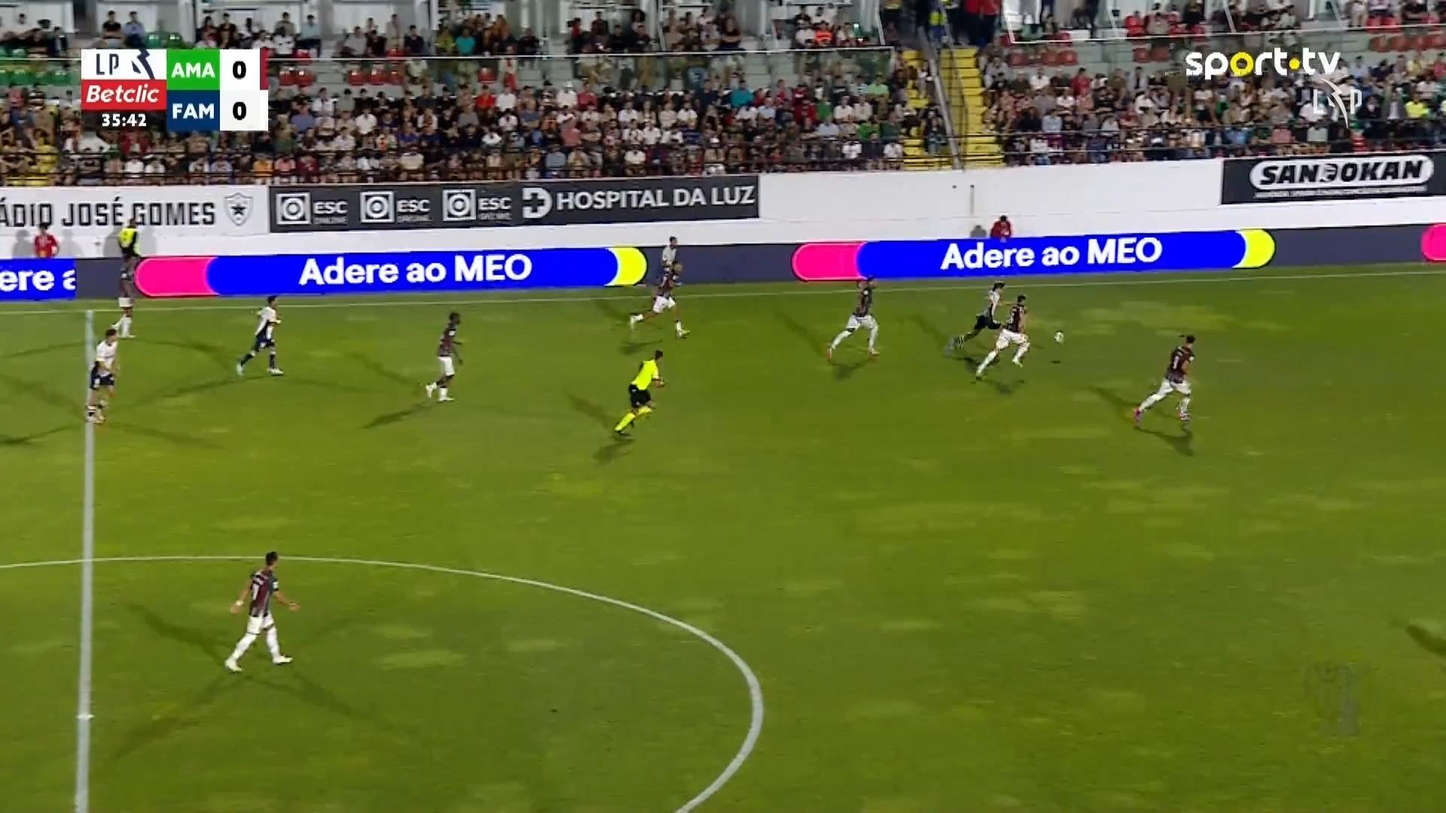ball: (1054, 330, 1063, 343)
player: (223, 550, 300, 672), (1132, 333, 1196, 430), (973, 293, 1030, 382), (627, 260, 690, 340), (825, 274, 881, 362), (235, 294, 285, 376), (948, 279, 1005, 350), (423, 310, 465, 402), (84, 327, 119, 424), (111, 267, 136, 338), (660, 235, 683, 286)
referee: (612, 348, 666, 435)
